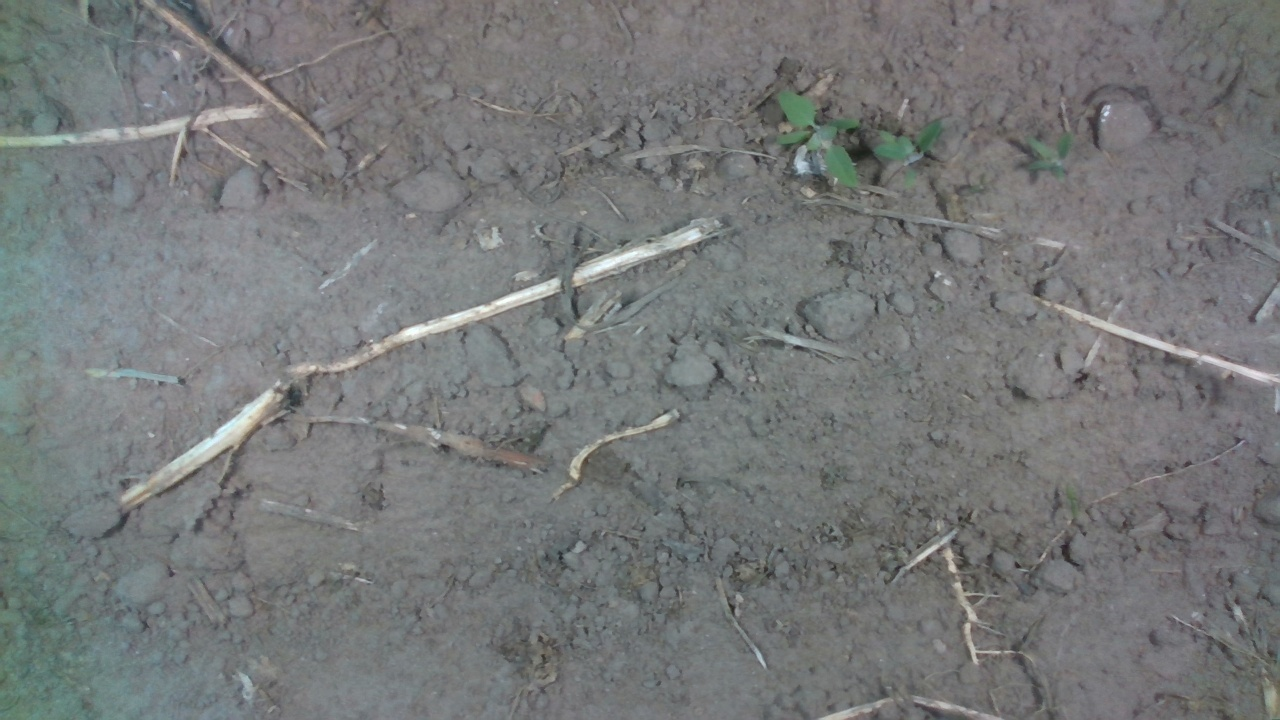weed: (773, 88, 863, 192), (1018, 126, 1072, 184)
